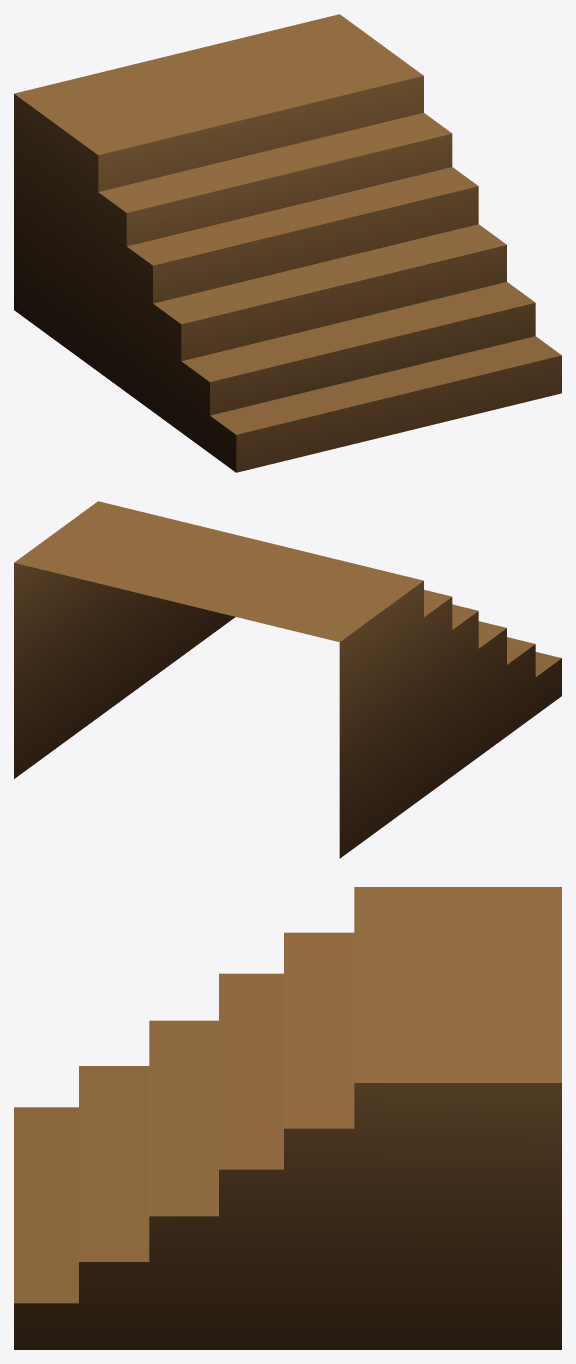
File: Stairs_06A.fbx
3 renders of one model, top to bottom at view 1: azimuth 30°, elevation 25°; view 2: azimuth 150°, elevation 25°; view 3: azimuth 270°, elevation 25°, orthographic. The views are drawn at different scales.
Parts seen in each view (by area): view 1: Stairs_06A; view 2: Stairs_06A; view 3: Stairs_06A.
Part boxes in pixels (x1=…): Stairs_06A: x1=14, y1=14, x2=561, y2=472; Stairs_06A: x1=14, y1=501, x2=561, y2=858; Stairs_06A: x1=14, y1=887, x2=561, y2=1349.
Size of the model in its own units: 170 by 108 by 201.
Materials: 1 (1 with a texture image).
